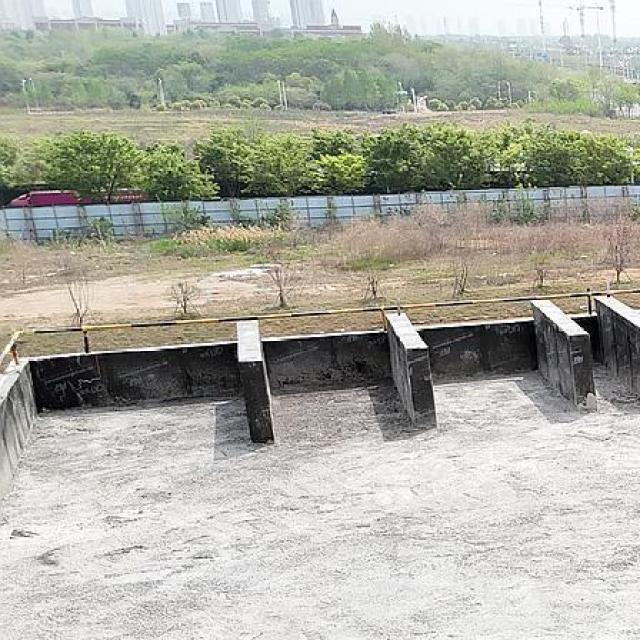edge_guardrail: (0, 287, 640, 372)
